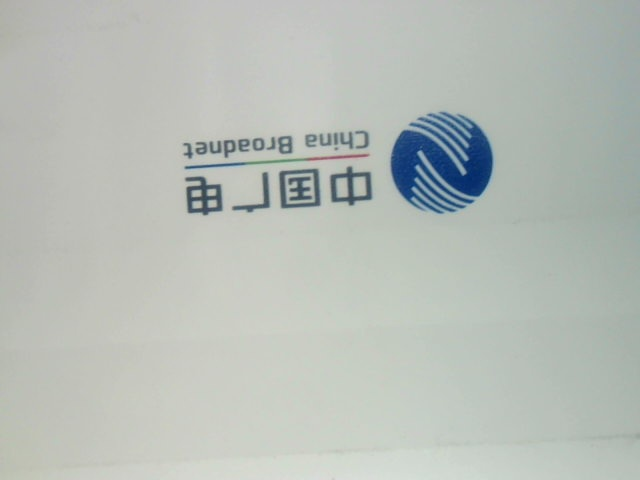AW_ChinaBroadNet: (148, 99, 499, 249)
